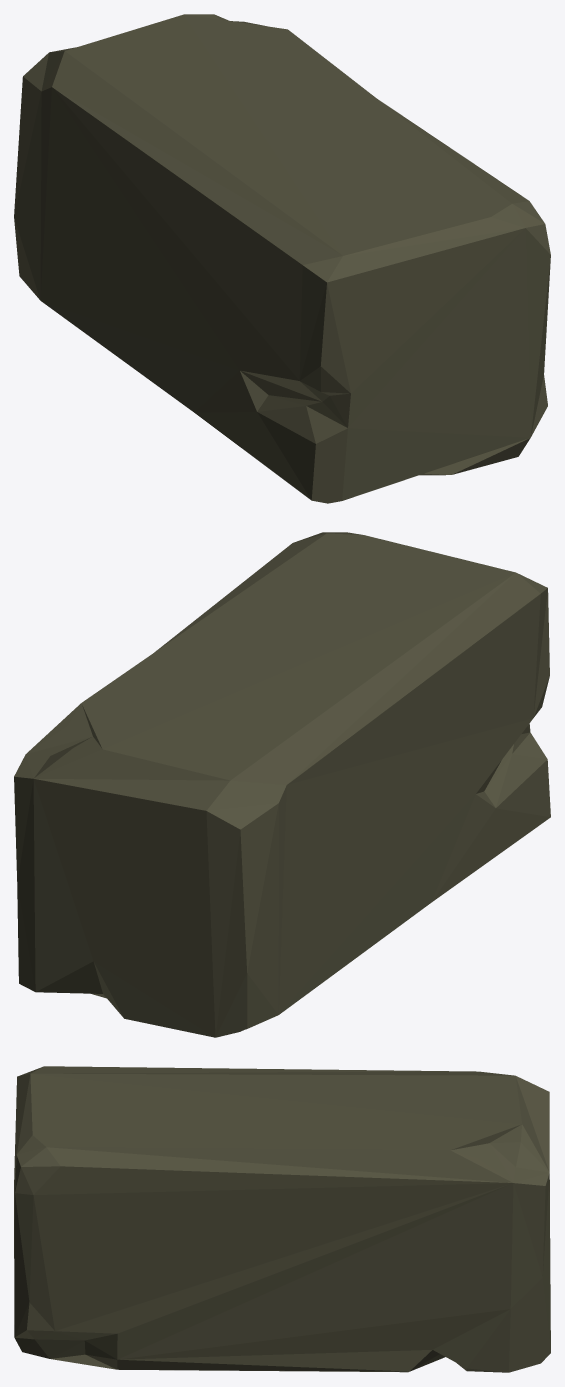
File: rubble-pile.lod2.glb
3 renders of one model, top to bottom at view 1: azimuth 30°, elevation 25°; view 2: azimuth 150°, elevation 25°; view 3: azimuth 270°, elevation 25°, orthographic. The views are drawn at different scales.
Visible parts, largest first — view 1: polySurface183_lambert1_0; view 2: polySurface183_lambert1_0; view 3: polySurface183_lambert1_0.
Boxes of the visible parts, bbox=[...] form: polySurface183_lambert1_0: bbox=[14, 14, 550, 503]; polySurface183_lambert1_0: bbox=[14, 532, 550, 1037]; polySurface183_lambert1_0: bbox=[14, 1066, 550, 1372].
Bounding box in the file's own units: 1.3 × 1.3 × 2.9.
